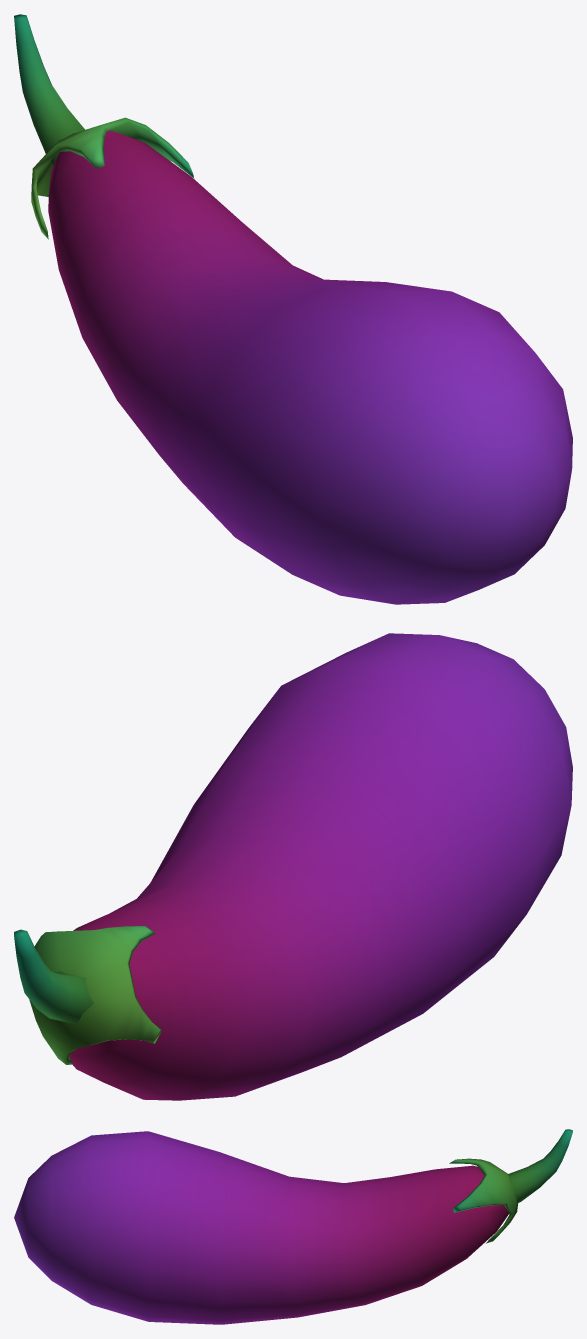
The model's file is eggplant_001.fbx.
The picture shows the model from 3 angles, top to bottom: view 1: azimuth 30°, elevation 25°; view 2: azimuth 150°, elevation 25°; view 3: azimuth 270°, elevation 25°; orthographic projection. The views are drawn at different scales.
Parts seen in each view (by area): view 1: eggplant_001; view 2: eggplant_001; view 3: eggplant_001.
Part boxes in pixels (box(x1,y1,x2,y2)): eggplant_001: box(14, 14, 572, 604); eggplant_001: box(14, 633, 572, 1100); eggplant_001: box(14, 1129, 572, 1324).
Bounding box in the file's own units: 7.69 × 22.12 × 7.99.
